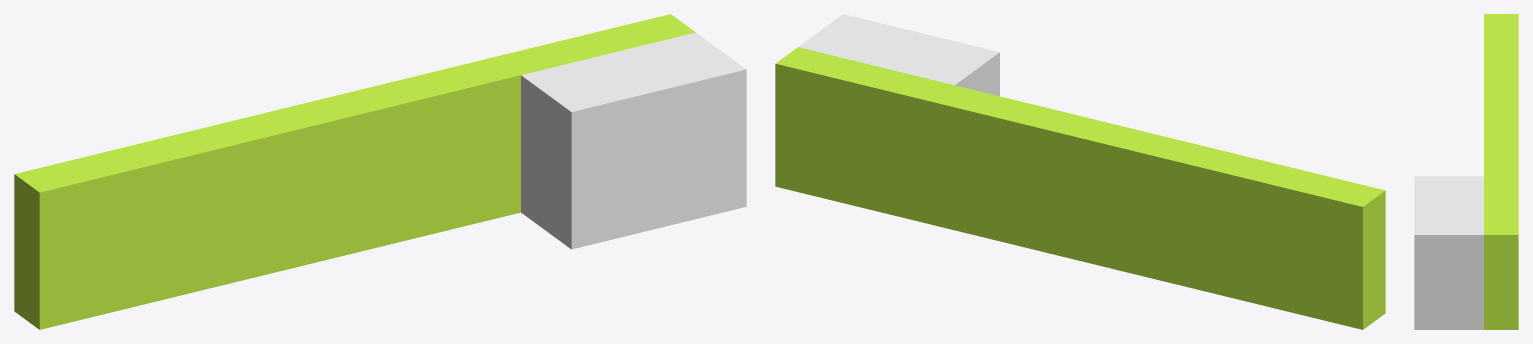
The model's file is cepillo.obj.
3 views of the same model, side by side, from view 1: azimuth 30°, elevation 25°; view 2: azimuth 150°, elevation 25°; view 3: azimuth 270°, elevation 25° (orthographic). The views are drawn at different scales.
Visible parts, largest first — view 1: cepillo; view 2: cepillo; view 3: cepillo.
Boxes of the visible parts, <box> form: cepillo: <box>14,14,746,329</box>; cepillo: <box>775,14,1385,329</box>; cepillo: <box>1414,14,1518,329</box>.
Bounding box in the file's own units: 15 × 3 × 3.
1 material, 1 textured.
